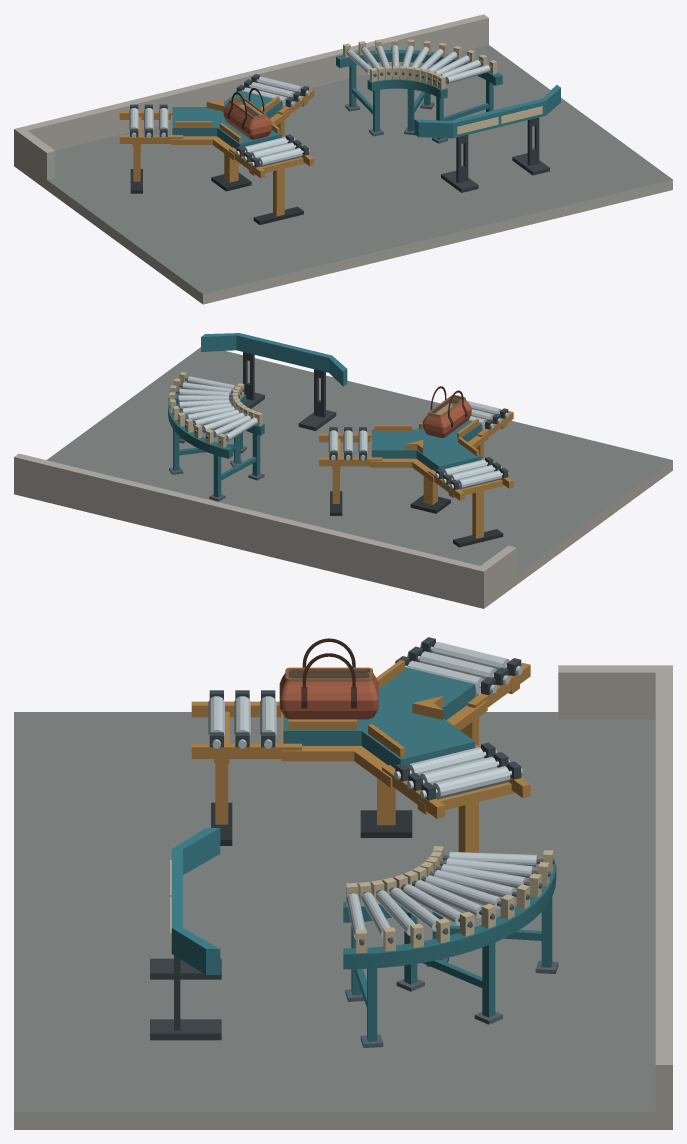
3 views of the same model, one above another, from view 1: azimuth 30°, elevation 25°; view 2: azimuth 150°, elevation 25°; view 3: azimuth 270°, elevation 25° (orthographic). The views are drawn at different scales.
Visible parts, largest first — view 1: SCENE_ONLY__SortingApronAndLowEdges, junction__TransferDeck_ContinuousThickY, guide__OneContinuousFlaredGuideWall, holdall__Body_SoftOpenMainChamber, curve__Outer_ContinuousQuarterAnnularBeam, curve__Inner_ContinuousQuarterAnnularBeam, junction__Underframe_ContinuousThickY, guide__Right_ThroughSlotStanchion, guide__Left_ThroughSlotStanchion, junction__Inlet_Upright, junction__Inlet_FixedRoller3, junction__LeftOutlet_SideBeam_+1; view 2: SCENE_ONLY__SortingApronAndLowEdges, junction__TransferDeck_ContinuousThickY, guide__OneContinuousFlaredGuideWall, holdall__Body_SoftOpenMainChamber, curve__Outer_ContinuousQuarterAnnularBeam, junction__Underframe_ContinuousThickY, junction__LeftOutlet_Upright, guide__Left_ThroughSlotStanchion, guide__Right_ThroughSlotStanchion, junction__RightOutlet_SideBeam_+1, junction__LeftOutlet_FixedRoller3, guide__Left_BroadFlatFoot (+1 smaller); view 3: SCENE_ONLY__SortingApronAndLowEdges, junction__TransferDeck_ContinuousThickY, curve__Outer_ContinuousQuarterAnnularBeam, holdall__Body_SoftOpenMainChamber, guide__OneContinuousFlaredGuideWall, junction__Underframe_ContinuousThickY, guide__Right_BroadFlatFoot, junction__RightOutlet_FixedRoller3, junction__Inlet_SideBeam_+1, junction__CentralFoot, junction__LeftOutlet_FixedRoller3, junction__RightOutlet_FixedRoller2 (+23 smaller).
Part boxes in pixels (x1,y1,x2,y2): SCENE_ONLY__SortingApronAndLowEdges: (14,14,672,304); junction__TransferDeck_ContinuousThickY: (172,90,282,149); guide__OneContinuousFlaredGuideWall: (414,85,560,138); holdall__Body_SoftOpenMainChamber: (223,98,272,139); curve__Outer_ContinuousQuarterAnnularBeam: (336,49,502,85); curve__Inner_ContinuousQuarterAnnularBeam: (367,76,447,98); junction__Underframe_ContinuousThickY: (171,110,289,160); guide__Right_ThroughSlotStanchion: (527,117,539,165); guide__Left_ThroughSlotStanchion: (456,135,468,183); junction__Inlet_Upright: (273,168,284,216); junction__Inlet_FixedRoller3: (250,148,309,166); junction__LeftOutlet_SideBeam_+1: (119,135,182,143); SCENE_ONLY__SortingApronAndLowEdges: (14,347,672,608); junction__TransferDeck_ContinuousThickY: (371,420,481,471); guide__OneContinuousFlaredGuideWall: (201,333,347,386); holdall__Body_SoftOpenMainChamber: (422,397,471,437); curve__Outer_ContinuousQuarterAnnularBeam: (168,381,233,458); junction__Underframe_ContinuousThickY: (370,433,488,482); junction__LeftOutlet_Upright: (472,491,483,538); guide__Left_ThroughSlotStanchion: (314,369,325,417); guide__Right_ThroughSlotStanchion: (243,352,254,400); junction__RightOutlet_SideBeam_+1: (319,457,382,466); junction__LeftOutlet_FixedRoller3: (450,470,508,489); guide__Left_BroadFlatFoot: (298,410,336,430); SCENE_ONLY__SortingApronAndLowEdges: (14,665,672,1129); junction__TransferDeck_ContinuousThickY: (283,667,475,768); curve__Outer_ContinuousQuarterAnnularBeam: (343,864,556,969); holdall__Body_SoftOpenMainChamber: (279,671,378,719); guide__OneContinuousFlaredGuideWall: (171,828,220,974); junction__Underframe_ContinuousThickY: (281,701,487,787); guide__Right_BroadFlatFoot: (150,1019,221,1040); junction__RightOutlet_FixedRoller3: (420,766,522,799); junction__Inlet_SideBeam_+1: (191,743,301,758); junction__CentralFoot: (360,810,412,837); junction__LeftOutlet_FixedRoller3: (420,642,522,674); junction__RightOutlet_FixedRoller2: (407,756,509,789).
Size of the model in its own units: 6.6 by 1.53 by 4.6.
